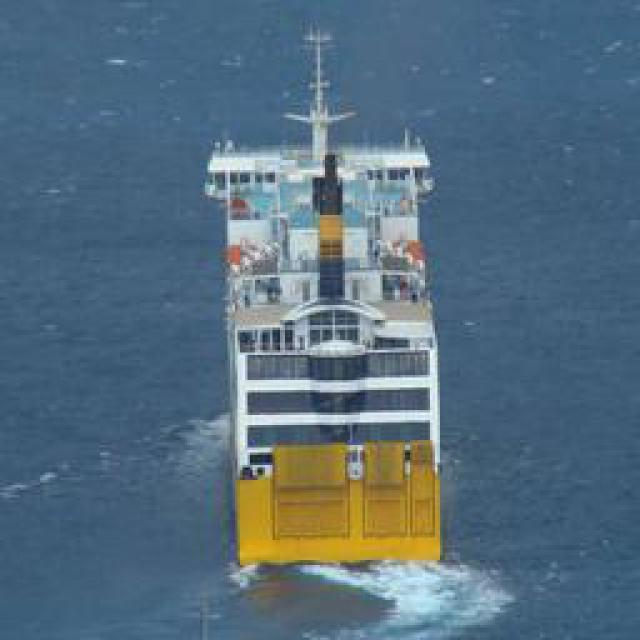Ship: (217, 39, 450, 582)
